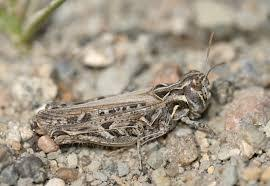insect: (32, 26, 229, 170)
